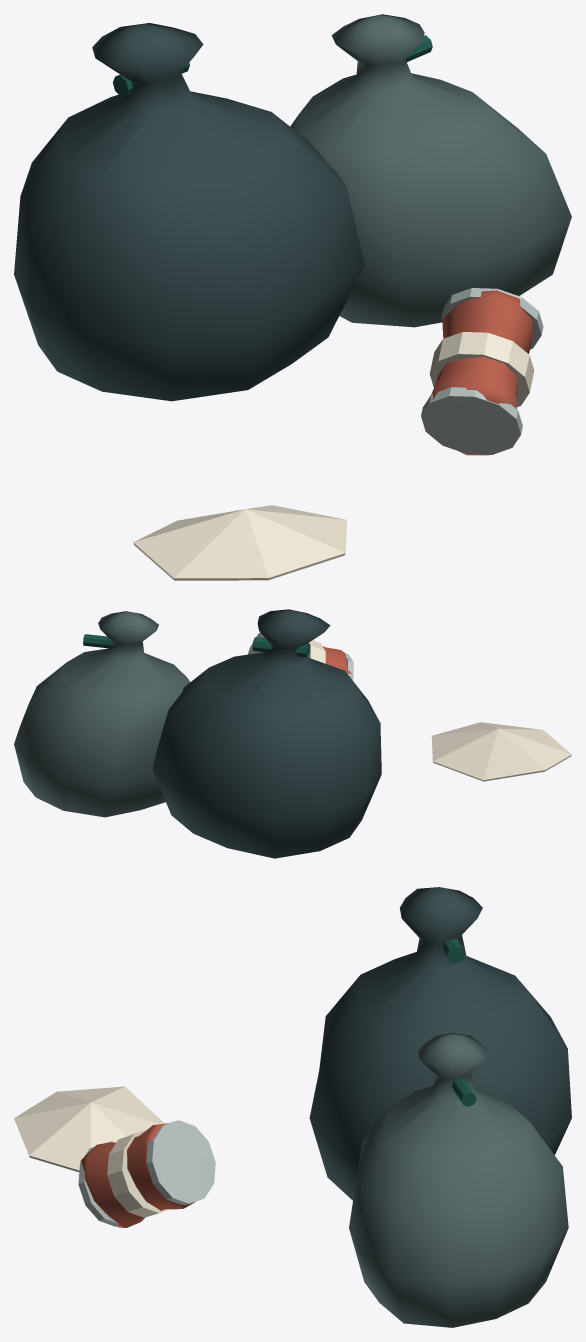
The model's file is waste-partial-low.glb.
3 renders of one model, top to bottom at view 1: azimuth 30°, elevation 25°; view 2: azimuth 150°, elevation 25°; view 3: azimuth 270°, elevation 25°, orthographic. The views are drawn at different scales.
Parts seen in each view (by area): view 1: creased tied refuse sack, pinched sack fold, can stripe, aluminium can end, crumpled drink can, sack knot; view 2: creased tied refuse sack, pinched sack fold, can stripe, sack knot, crumpled drink can; view 3: pinched sack fold, creased tied refuse sack, can stripe, aluminium can end, crumpled drink can, sack knot.
Part boxes in pixels (x1=…): creased tied refuse sack: x1=14, y1=23, x2=364, y2=401; pinched sack fold: x1=290, y1=14, x2=571, y2=327; can stripe: x1=133, y1=332, x2=534, y2=580; aluminium can end: x1=421, y1=288, x2=543, y2=454; crumpled drink can: x1=431, y1=290, x2=532, y2=455; sack knot: x1=113, y1=35, x2=432, y2=96; creased tied refuse sack: x1=152, y1=609, x2=381, y2=858; pinched sack fold: x1=14, y1=611, x2=190, y2=817; can stripe: x1=308, y1=640, x2=571, y2=781; sack knot: x1=83, y1=634, x2=309, y2=657; crumpled drink can: x1=322, y1=646, x2=351, y2=673; pinched sack fold: x1=349, y1=1033, x2=568, y2=1327; creased tied refuse sack: x1=309, y1=887, x2=571, y2=1200; can stripe: x1=14, y1=1086, x2=169, y2=1217; aluminium can end: x1=78, y1=1120, x2=215, y2=1226; crumpled drink can: x1=80, y1=1123, x2=195, y2=1227; sack knot: x1=443, y1=939, x2=476, y2=1106.
Size of the model in its own units: 0.8924 by 0.4843 by 0.8486.
